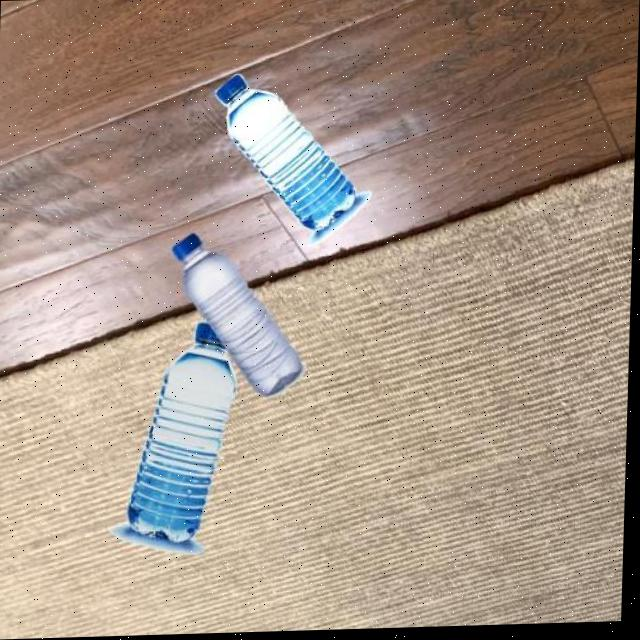bottle: (112, 322, 242, 560), (210, 70, 377, 250), (169, 231, 311, 402)
